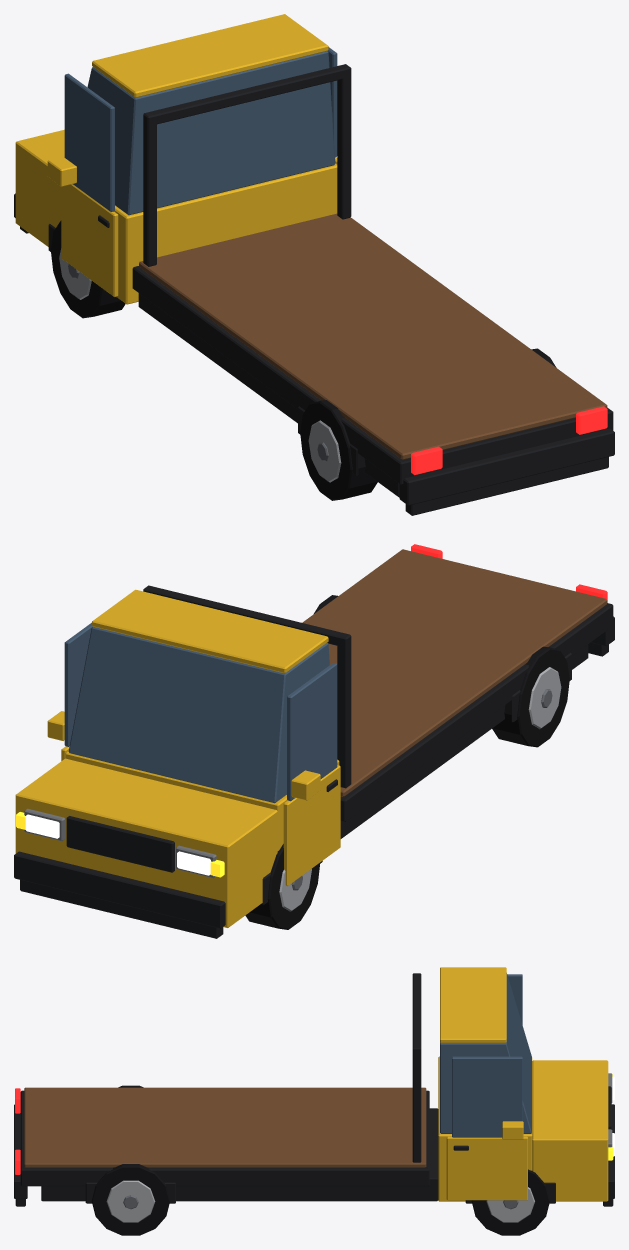
The model's file is car_flatbed.glb.
3 views of the same model, one above another, from view 1: azimuth 30°, elevation 25°; view 2: azimuth 150°, elevation 25°; view 3: azimuth 270°, elevation 25° (orthographic). The views are drawn at different scales.
Visible parts, largest first — view 1: car_body, car_door_FL; view 2: car_body, car_door_FL, car_door_FR; view 3: car_body, car_door_FR, car_door_FL.
Part boxes in pixels (<box>): car_body: <box>14,14,614,515</box>; car_door_FL: <box>47,73,118,296</box>; car_body: <box>14,544,614,938</box>; car_door_FL: <box>283,662,340,886</box>; car_door_FR: <box>47,622,92,760</box>; car_body: <box>14,967,614,1235</box>; car_door_FR: <box>446,1056,527,1200</box>; car_door_FL: <box>507,974,522,1024</box>.
Bounding box in the file's own units: 2.68 × 2.49 × 7.04.
